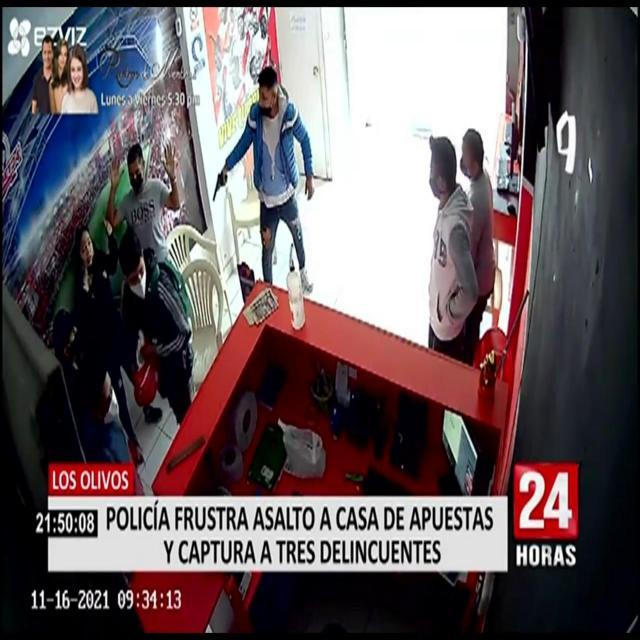weapon: (208, 166, 233, 212)
